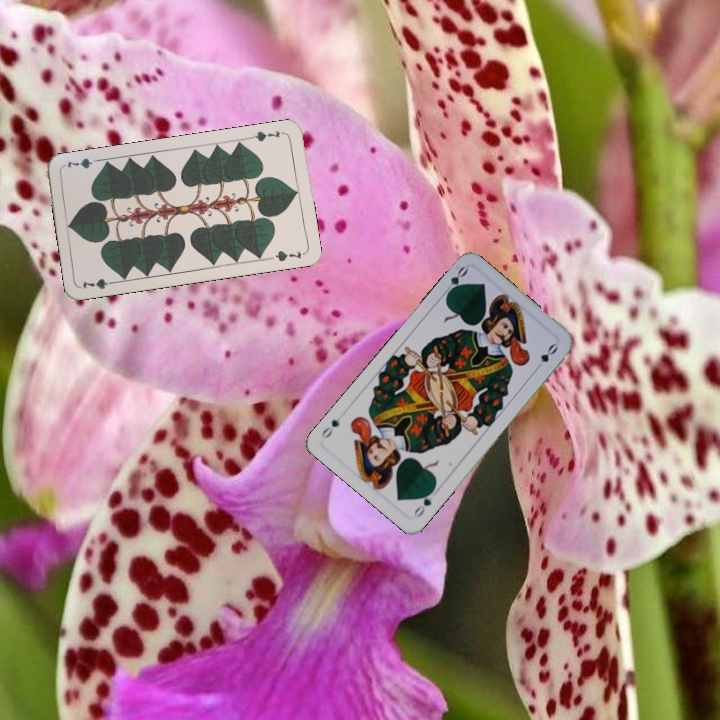G7: (79, 274, 119, 292), (247, 127, 287, 144)
GO: (439, 262, 470, 299), (409, 484, 437, 520)
